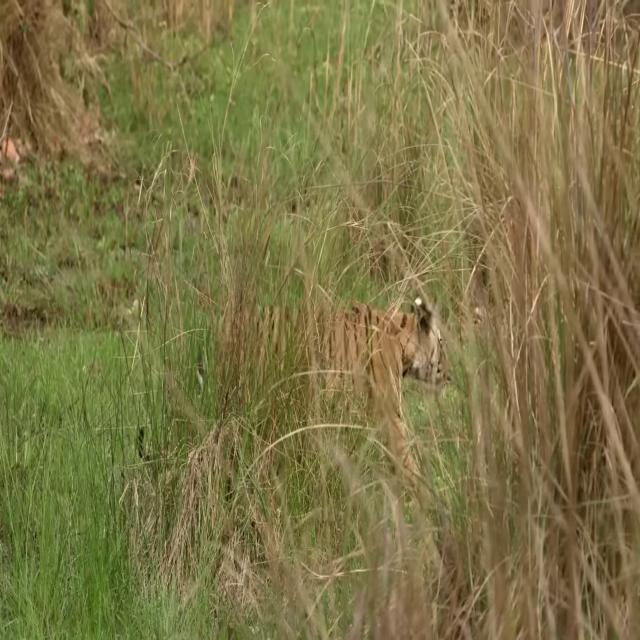tiger: (136, 298, 450, 485)
